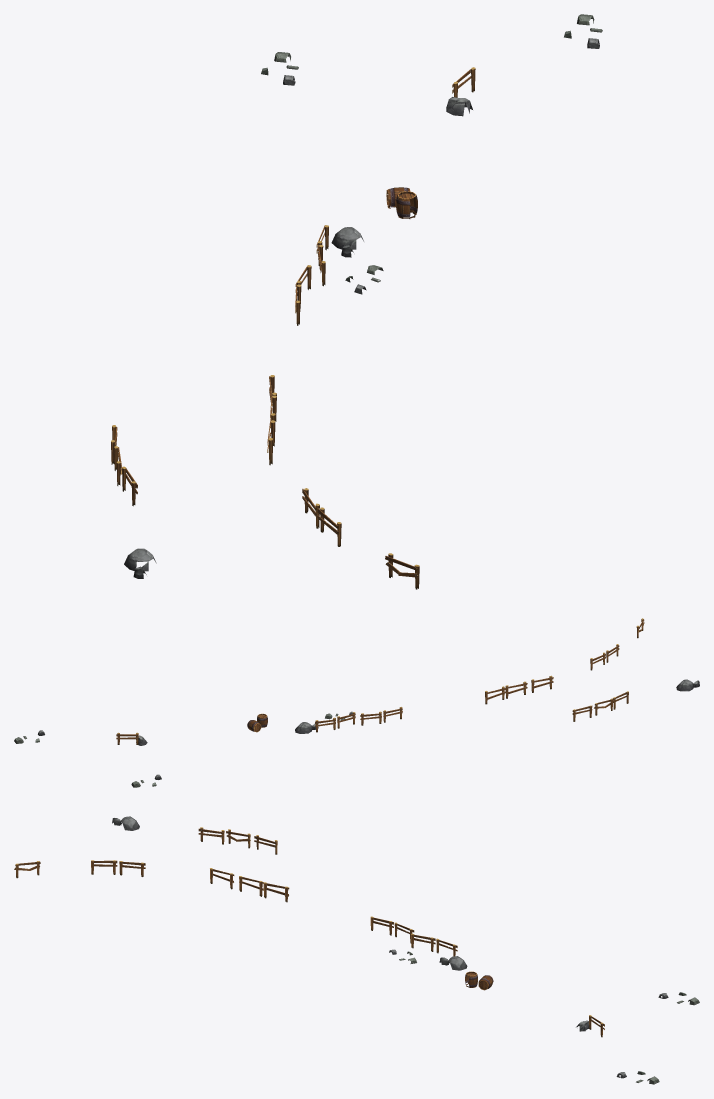
File: wujian16_1.fbx
3 renders of one model, top to bottom at view 1: azimuth 30°, elevation 25°; view 2: azimuth 150°, elevation 25°; view 3: azimuth 270°, elevation 25°, orthographic. The views are drawn at different scales.
Visible parts, largest first — view 1: wujian16_1; view 2: wujian16_1; view 3: wujian16_1.
Boxes of the visible parts, box(x1,y1,x2,y2) form: wujian16_1: box(111, 14, 602, 589); wujian16_1: box(14, 618, 699, 787); wujian16_1: box(14, 816, 699, 1084).
Size of the model in its own units: 4774 by 140 by 5252.
